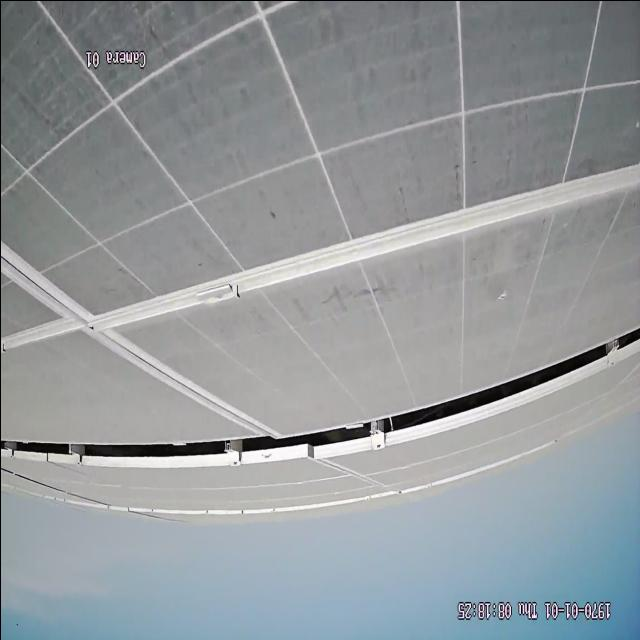interior panel: (0, 161, 639, 432)
outher panel: (1, 322, 636, 467)
